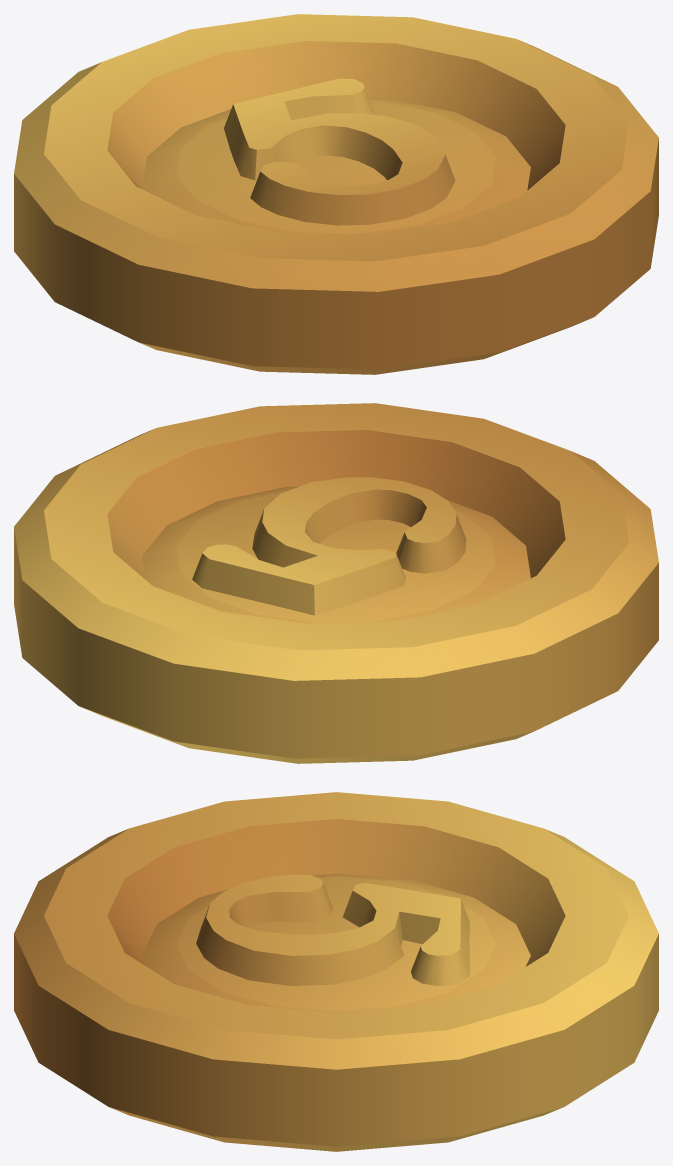
The model's file is coin_5_gold.glb.
3 views of the same model, one above another, from view 1: azimuth 30°, elevation 25°; view 2: azimuth 150°, elevation 25°; view 3: azimuth 270°, elevation 25° (orthographic).
Visible parts, largest first — view 1: coin_5_gold; view 2: coin_5_gold; view 3: coin_5_gold.
Part boxes in pixels (x1=…): coin_5_gold: x1=14, y1=14, x2=658, y2=374; coin_5_gold: x1=14, y1=403, x2=658, y2=763; coin_5_gold: x1=14, y1=792, x2=658, y2=1151.
Size of the model in its own units: 1.04 by 0.2 by 1.04.
1 material, 1 textured.
